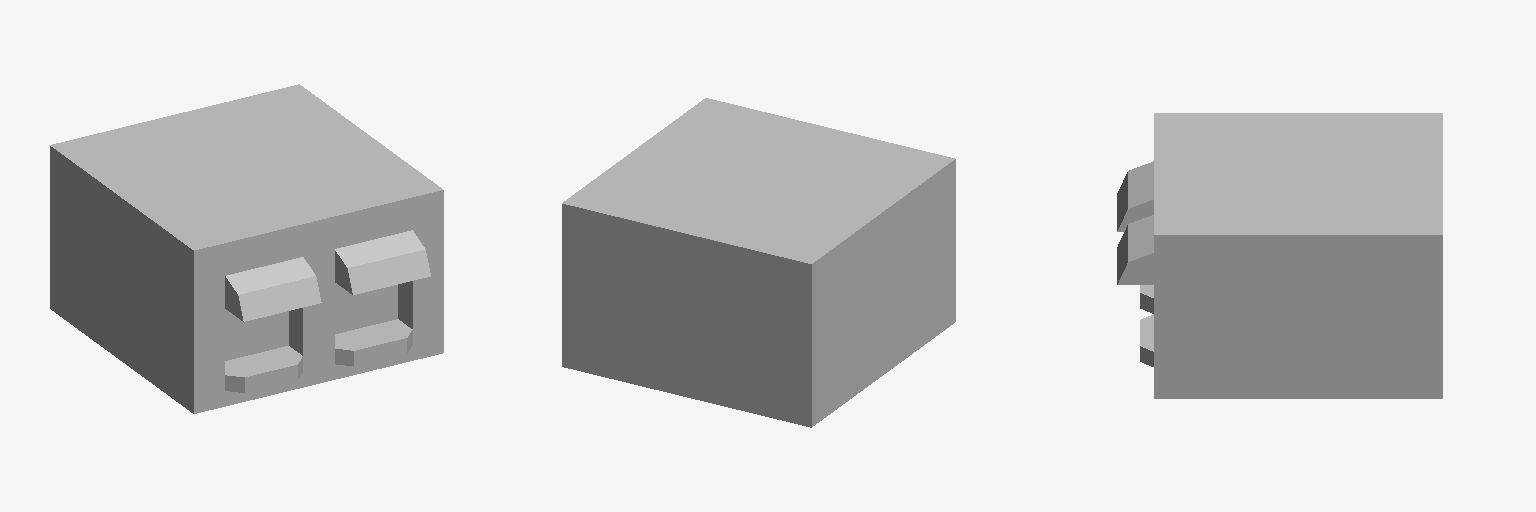
The model's file is building-window-awnings.obj.
The picture shows the model from 3 angles: view 1: azimuth 30°, elevation 25°; view 2: azimuth 150°, elevation 25°; view 3: azimuth 270°, elevation 25°; orthographic projection.
Parts seen in each view (by area): view 1: building-window-awnings; view 2: building-window-awnings; view 3: building-window-awnings.
Boxes of the visible parts, x1=… form: building-window-awnings: x1=50, y1=84, x2=443, y2=413; building-window-awnings: x1=562, y1=98, x2=955, y2=427; building-window-awnings: x1=1117, y1=113, x2=1442, y2=398.
Bounding box in the file's own units: 1 × 0.625 × 1.13.